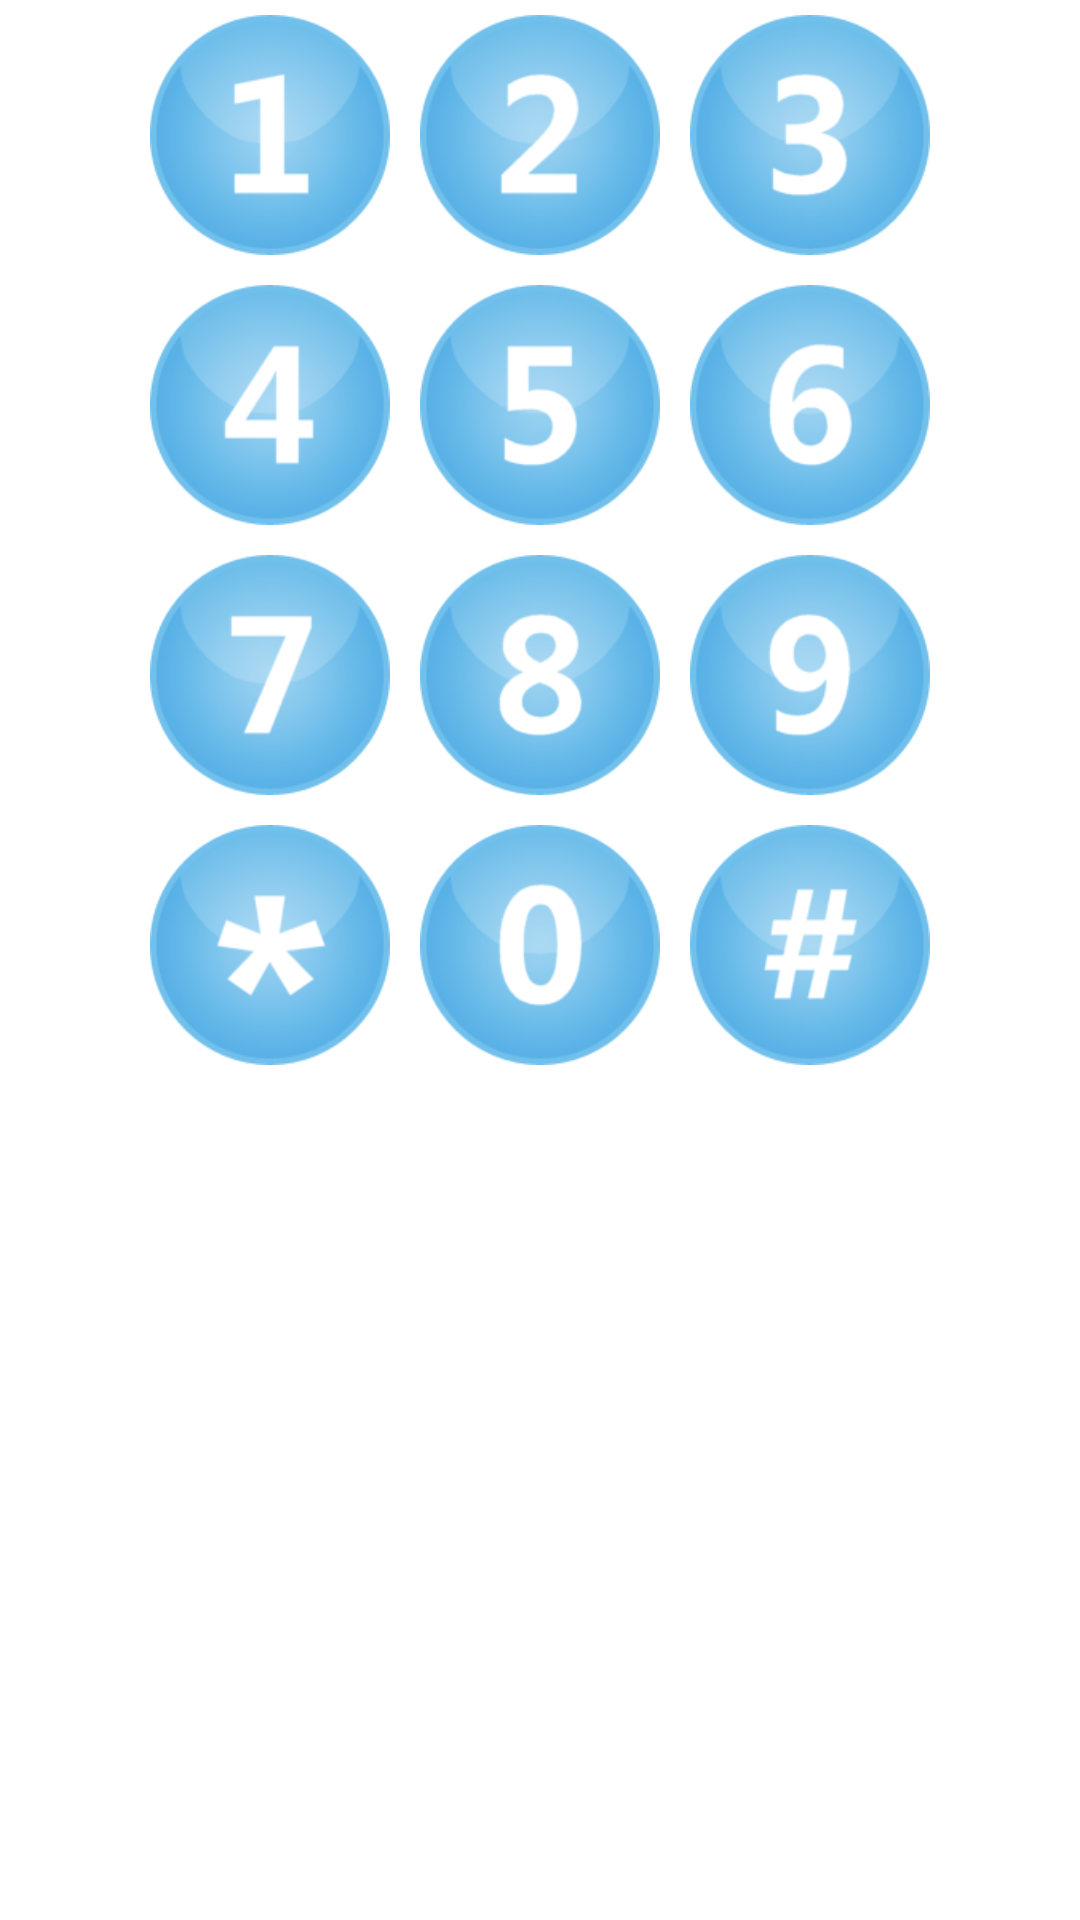

Where to tap for icons on this 1080px×1920px app screen, as (x,y):
buttonp: (810,945)
buttons: (270,945)
